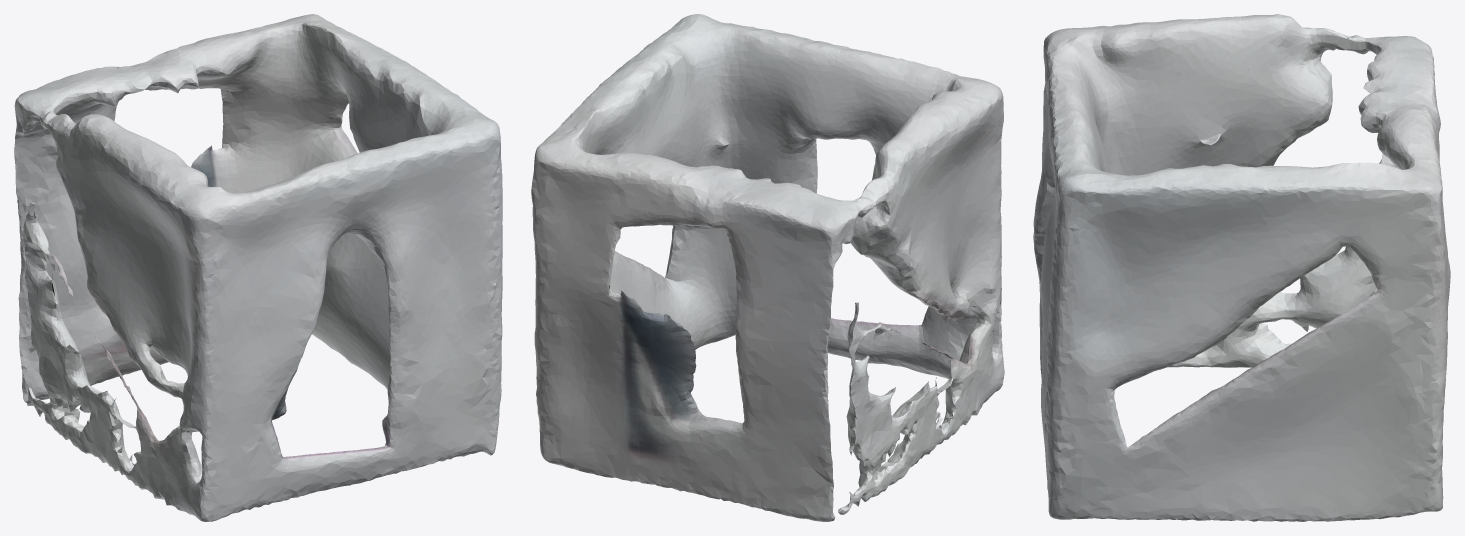
Rendered from Rule.glb.
The picture shows the model from 3 angles, left to right: view 1: azimuth 30°, elevation 25°; view 2: azimuth 150°, elevation 25°; view 3: azimuth 270°, elevation 25°; orthographic projection. The views are drawn at different scales.
Bounding box in the file's own units: 1.07 × 1.04 × 1.1.
Materials: 1 (1 with a texture image).
